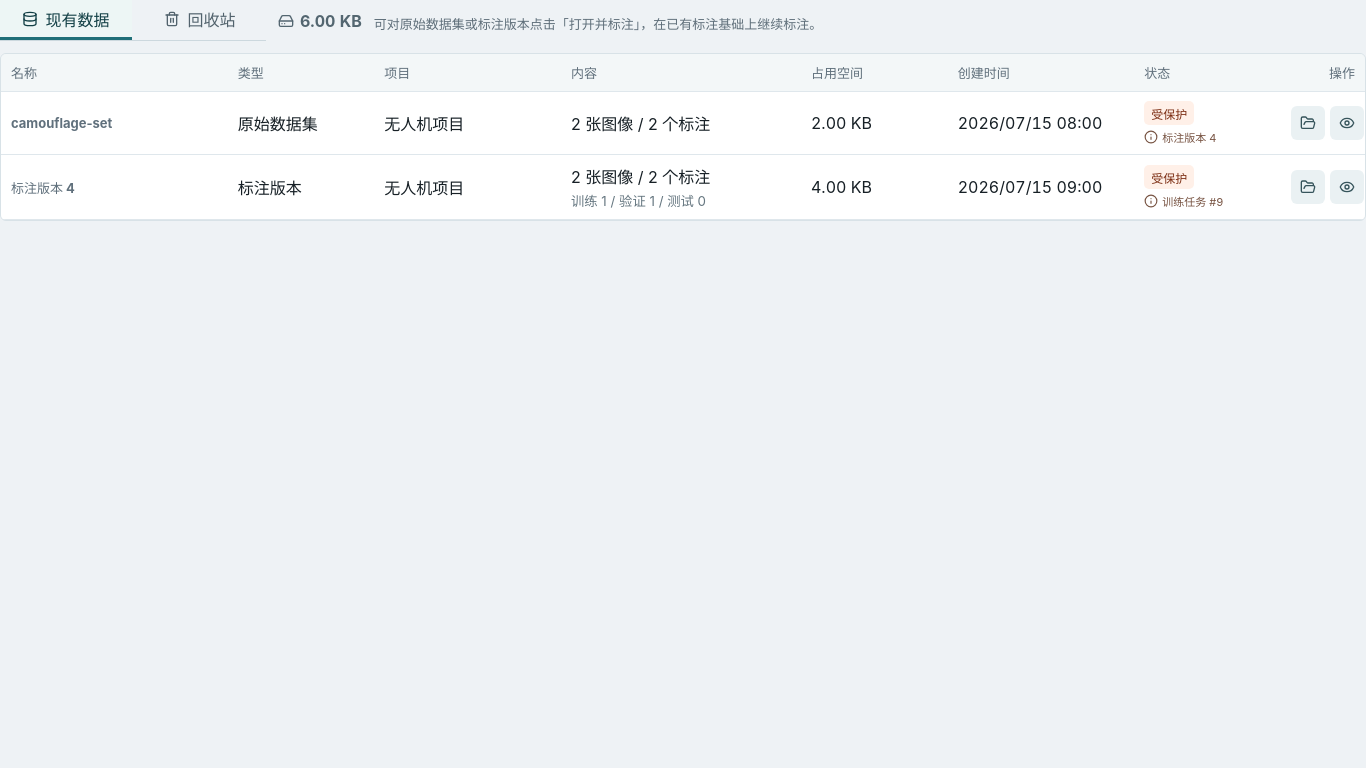
Test: StorageManagementView › 彻底删除失败时保留确认弹窗
Click the tab "回收站" at (200, 20), box [134,0,266,40]
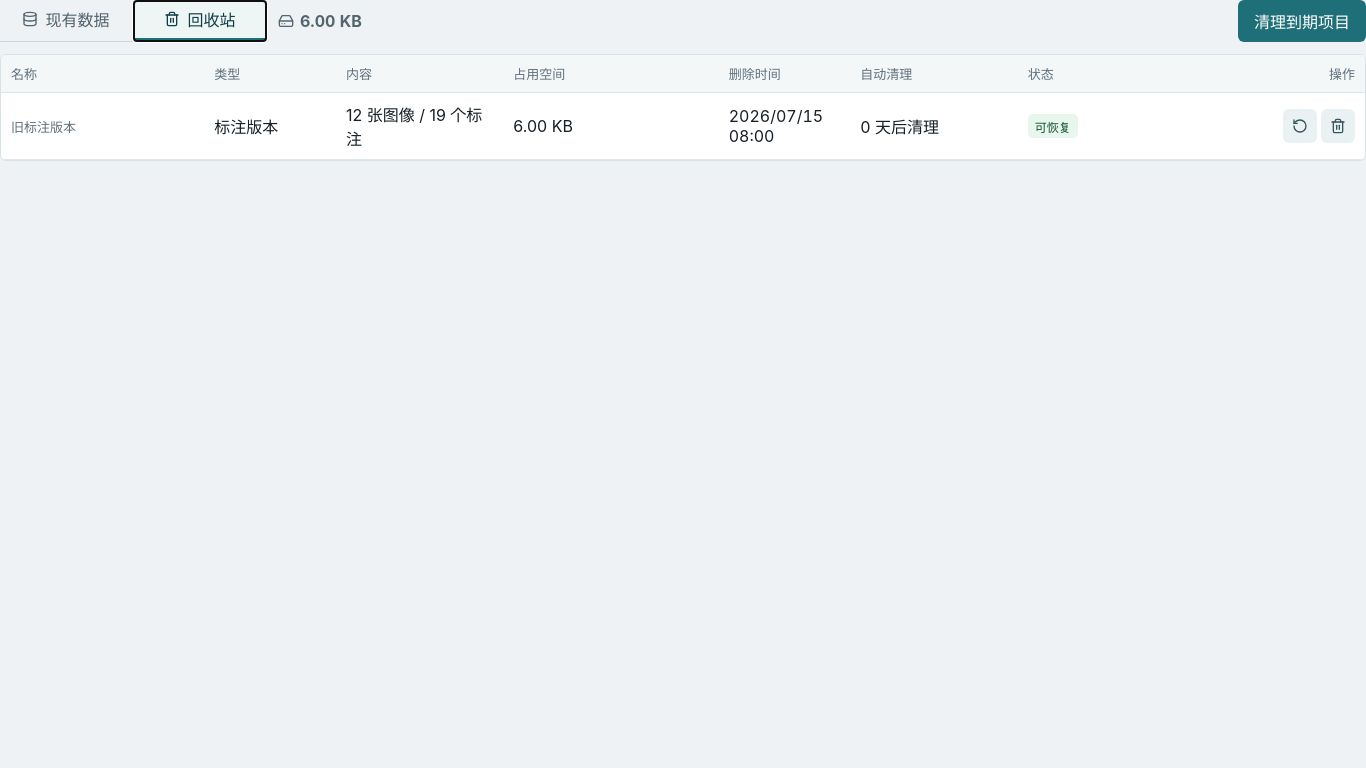
Click the button named "彻底删除 旧标注版本" at (1338, 126), box [1321,109,1355,143]
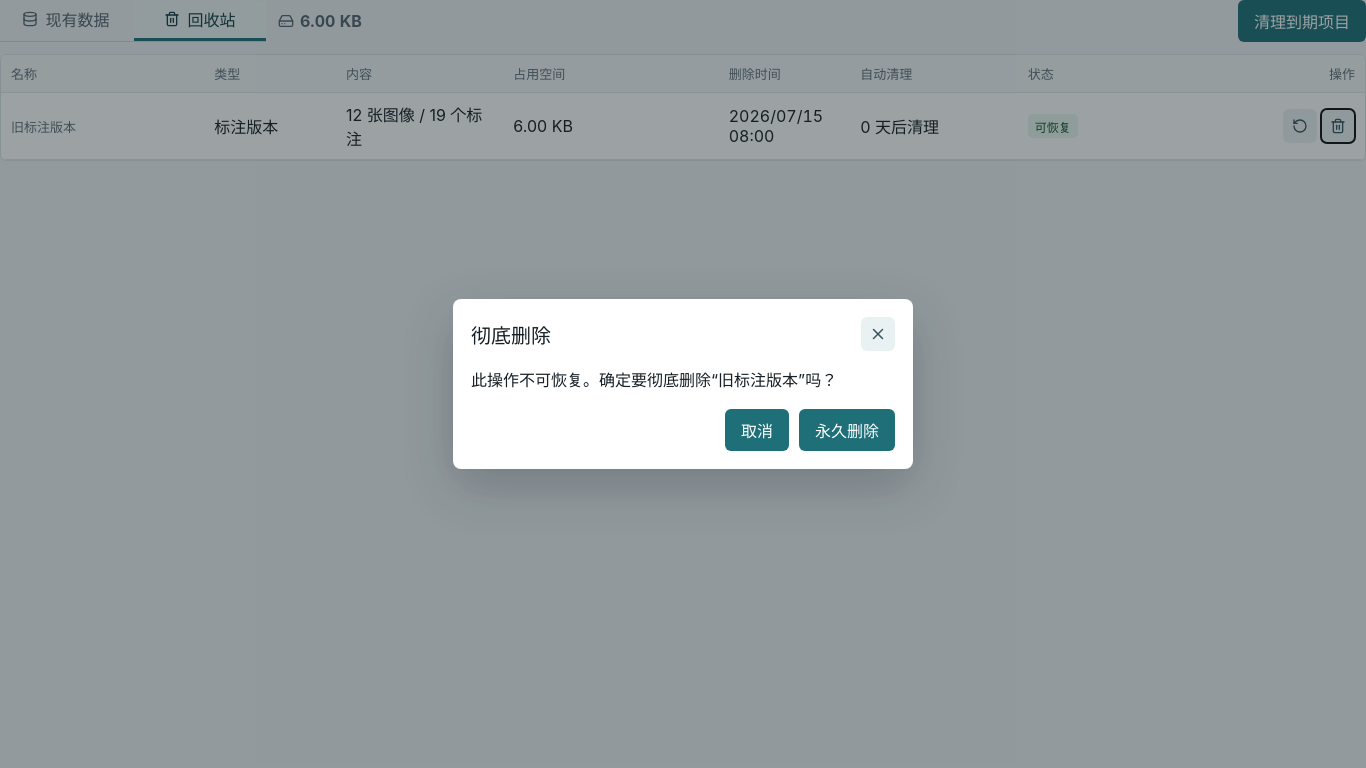
Click the button "永久删除" at (847, 430), box [799,409,895,451]
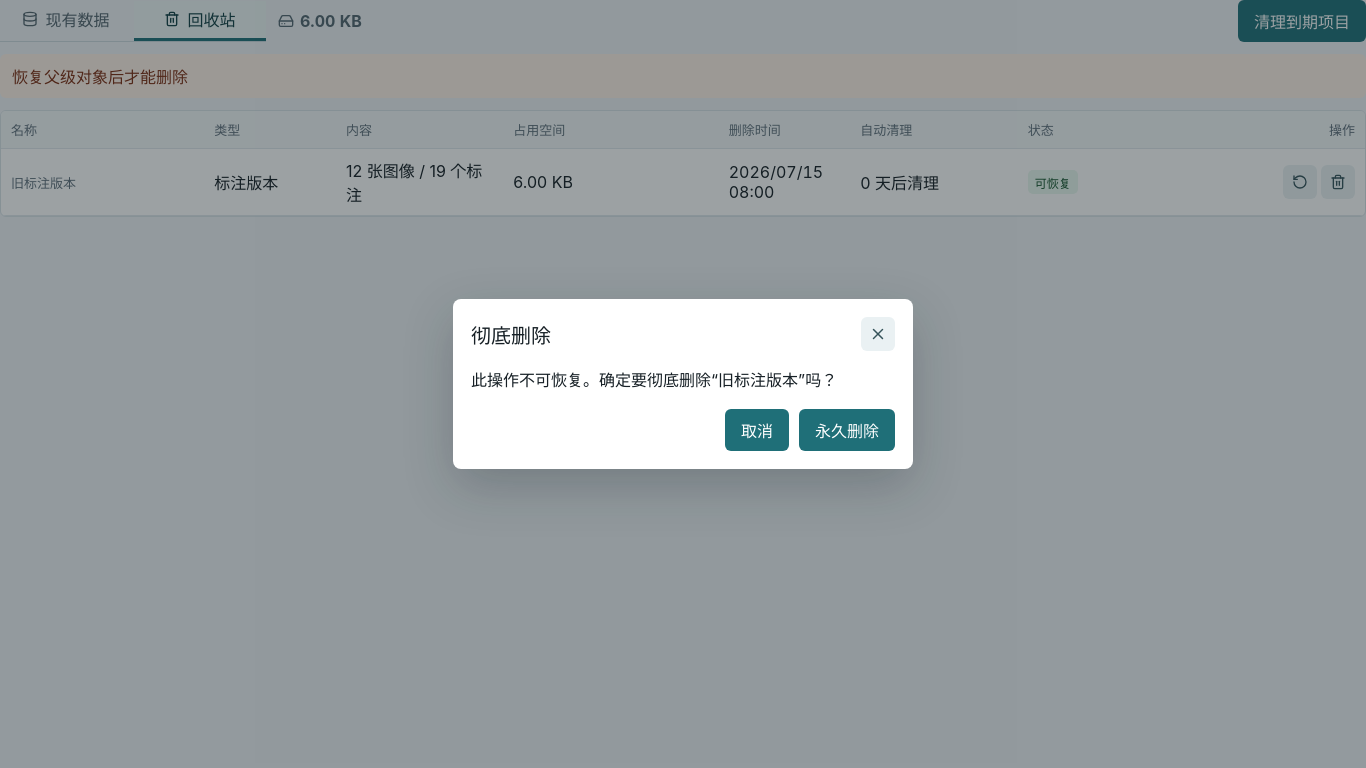
Now the dialog "彻底删除" is shown, box [453,299,913,469]
Now the message reads "恢复父级对象后才能删除", box [12,67,188,87]
